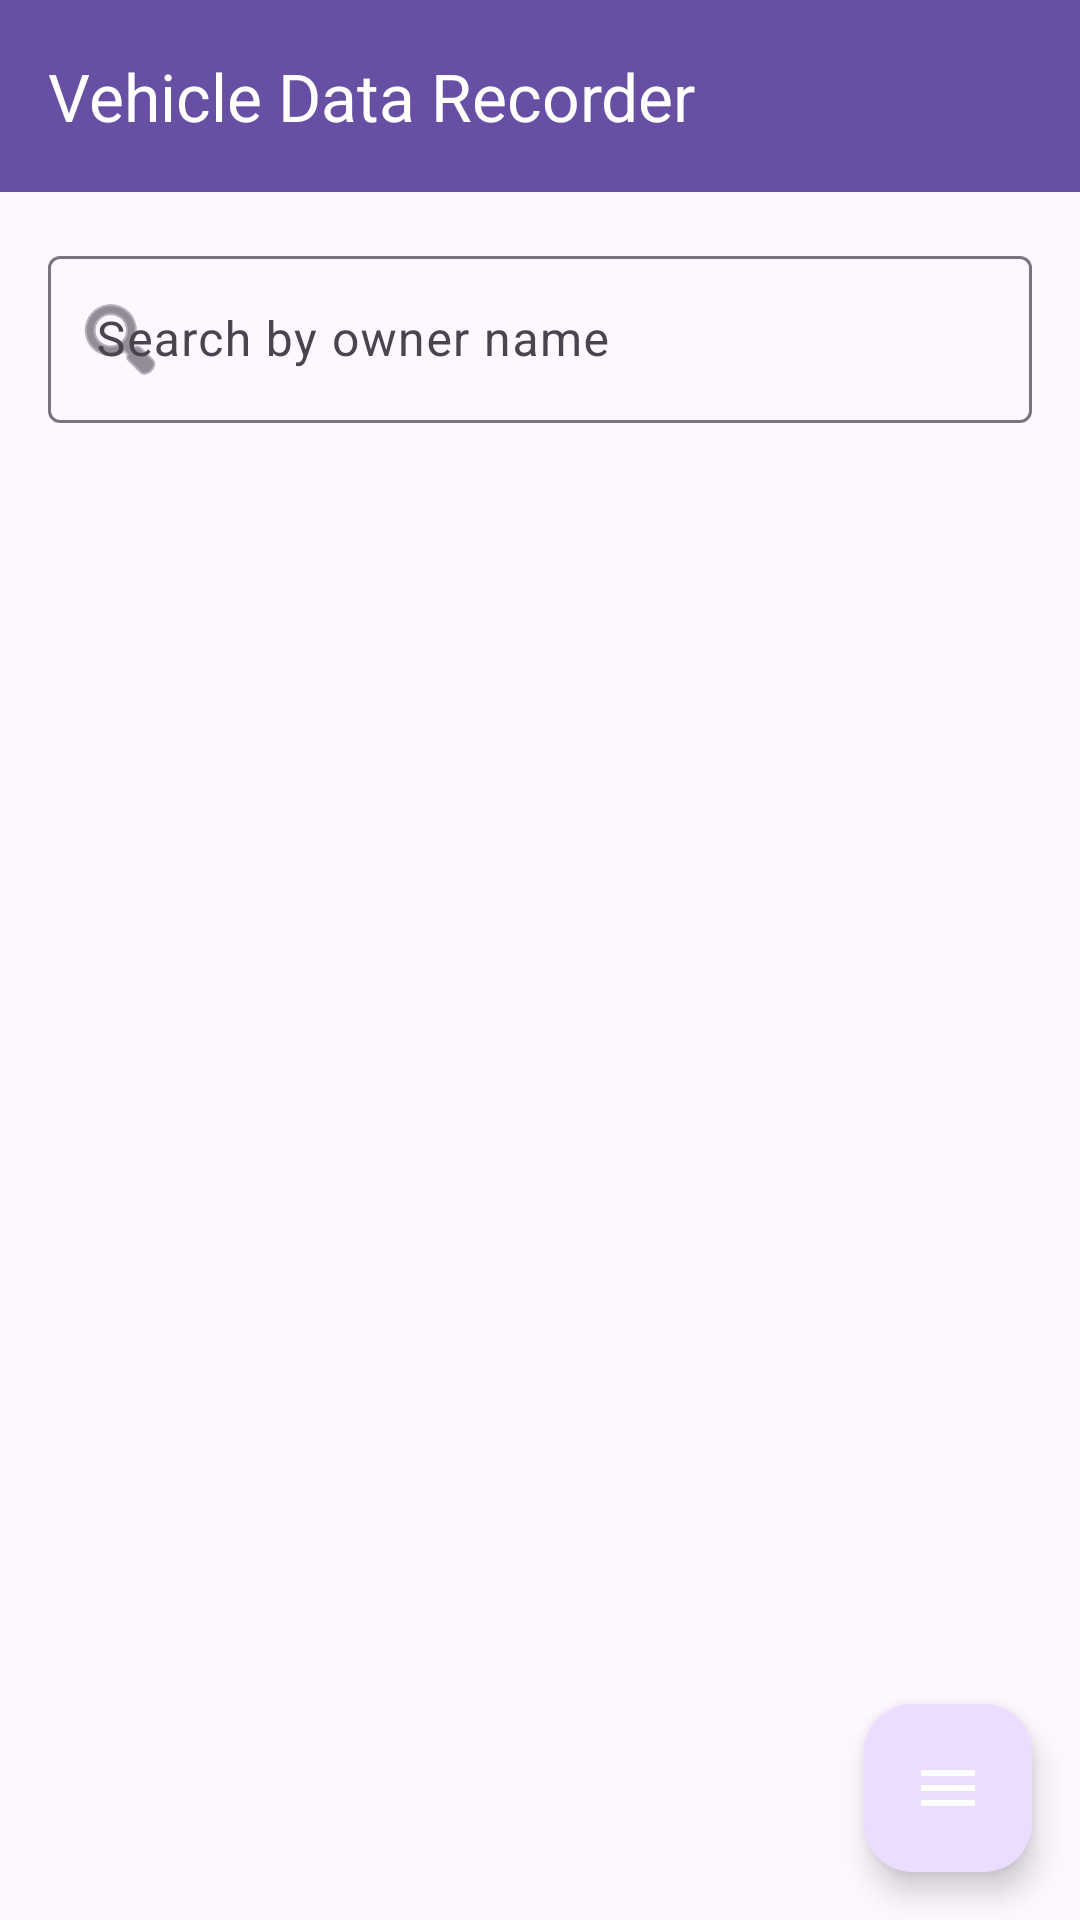

Icon click points for this 1080px×1920px phone screenshot, format [x,y]:
menu: [948,1788]
